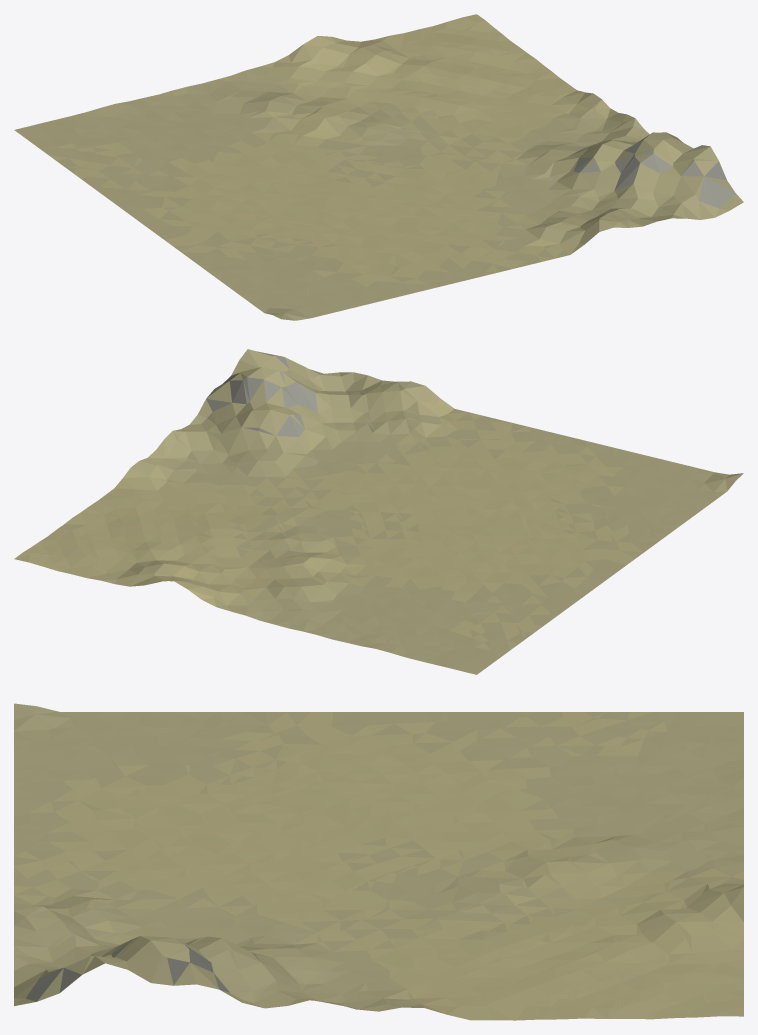
File: Ground_-3_-7.glb
3 renders of one model, top to bottom at view 1: azimuth 30°, elevation 25°; view 2: azimuth 150°, elevation 25°; view 3: azimuth 270°, elevation 25°, orthographic. The views are drawn at different scales.
Parts seen in each view (by area): view 1: Ground_-3_-7; view 2: Ground_-3_-7; view 3: Ground_-3_-7.
Part boxes in pixels (left/top/right/bottom): Ground_-3_-7: left=14, top=14, right=743, bottom=320; Ground_-3_-7: left=14, top=349, right=743, bottom=674; Ground_-3_-7: left=14, top=703, right=743, bottom=1020.
Bounding box in the file's own units: 768 × 69.26 × 768.
